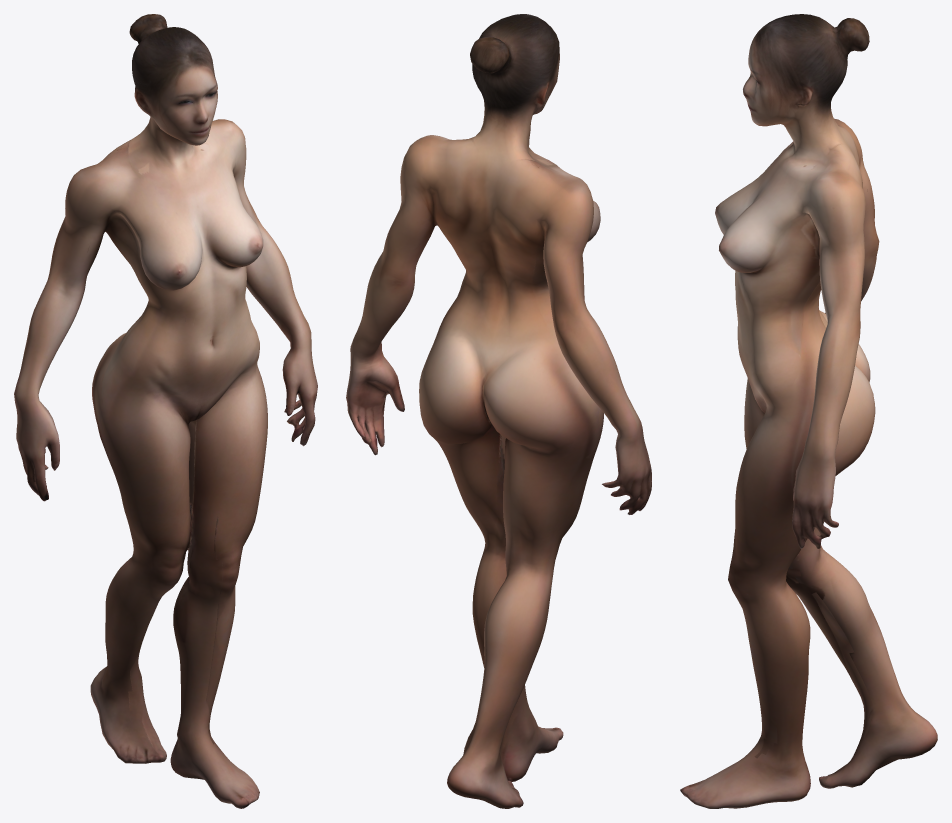
File: Wom2.glb
The picture shows the model from 3 angles, left to right: view 1: azimuth 30°, elevation 25°; view 2: azimuth 150°, elevation 25°; view 3: azimuth 270°, elevation 25°; orthographic projection. The views are drawn at different scales.
Size of the model in its own units: 0.8196 by 2 by 0.6035.
1 material, 1 textured.
